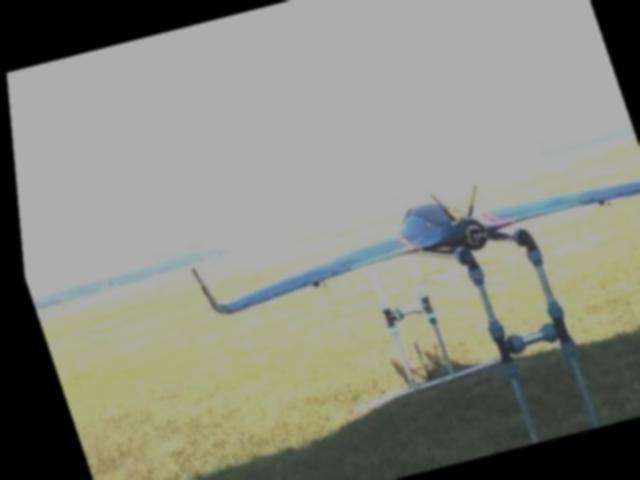iha: (174, 146, 640, 319)
